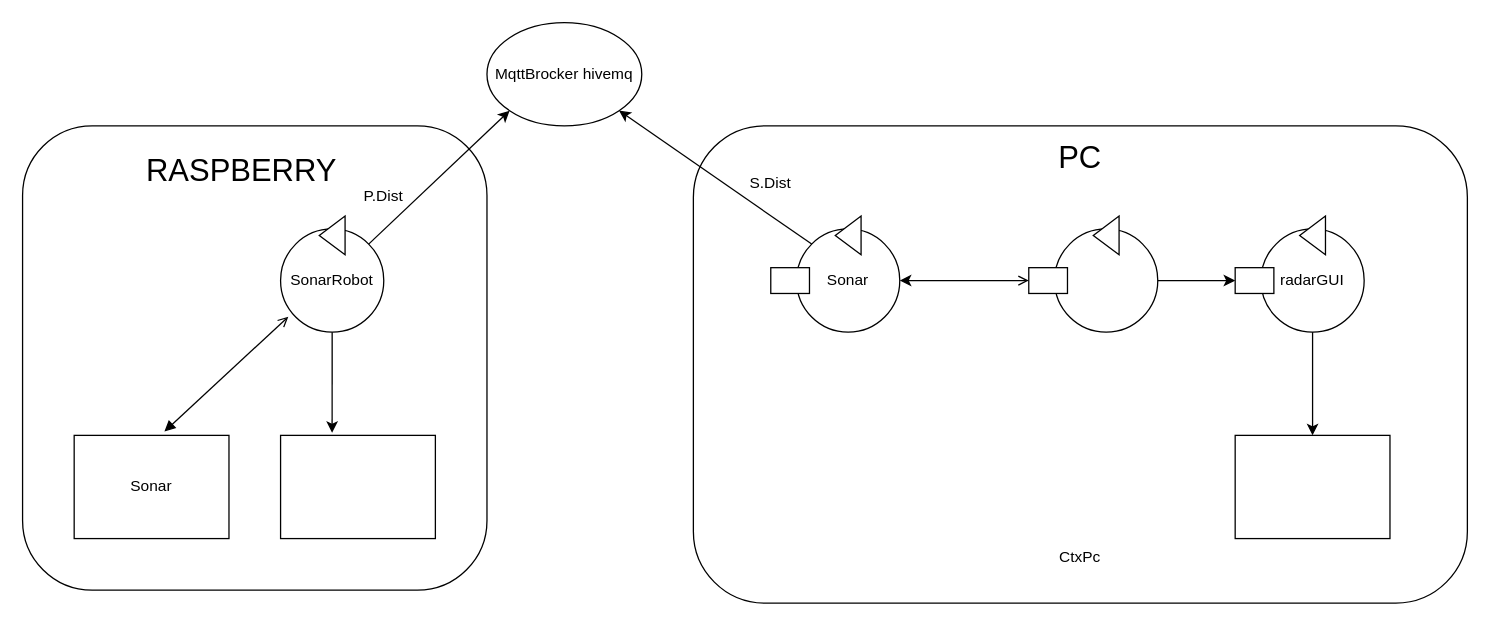
Some shapes in this 1490 by 626 pixel diagram are drawn without their labels. Each missing label, with the box of its shape:
Controller: (1053, 228, 1158, 332)
Led: (279, 434, 435, 539)
RadarPojo: (1234, 434, 1390, 539)
